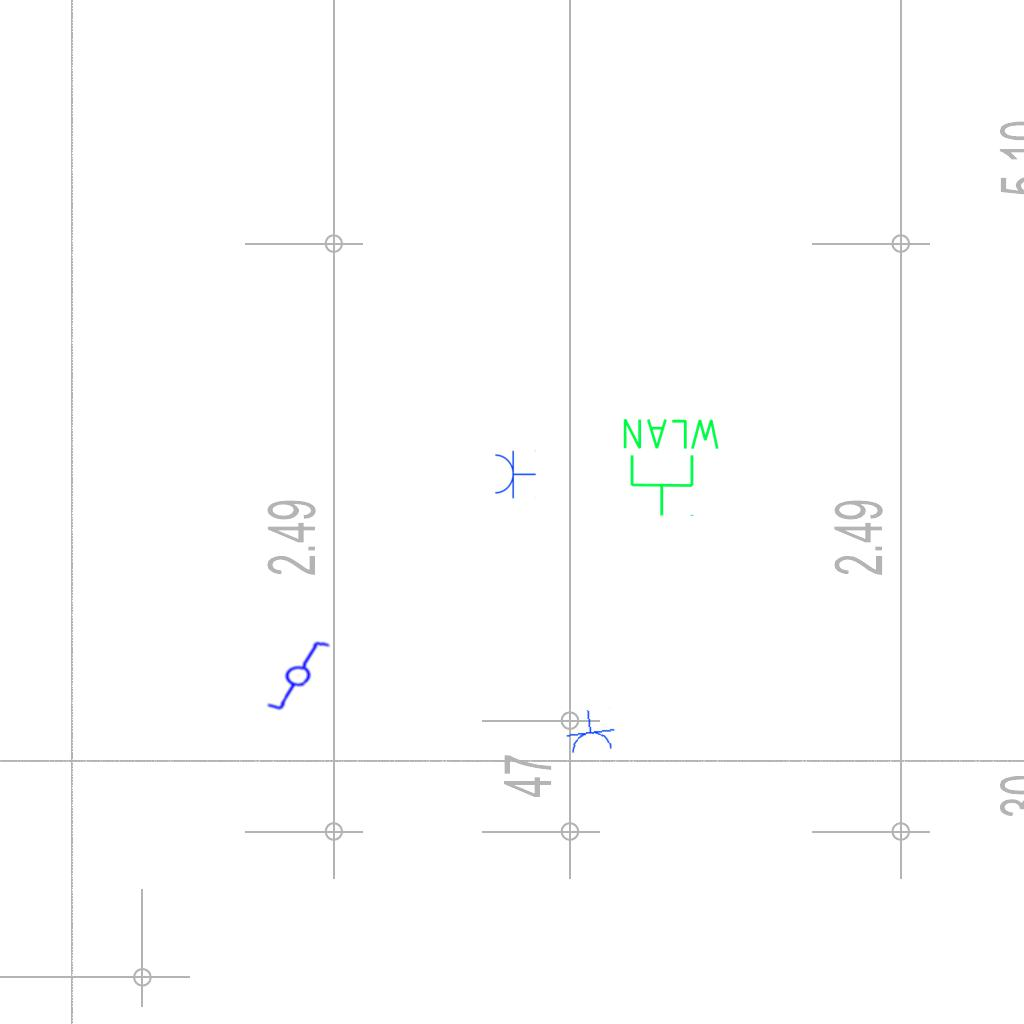Schukosteckdose_einfach: (562, 707, 618, 756), (493, 449, 536, 499)
WLAN: (619, 415, 724, 519)
Wechselschalter: (253, 637, 335, 713)
